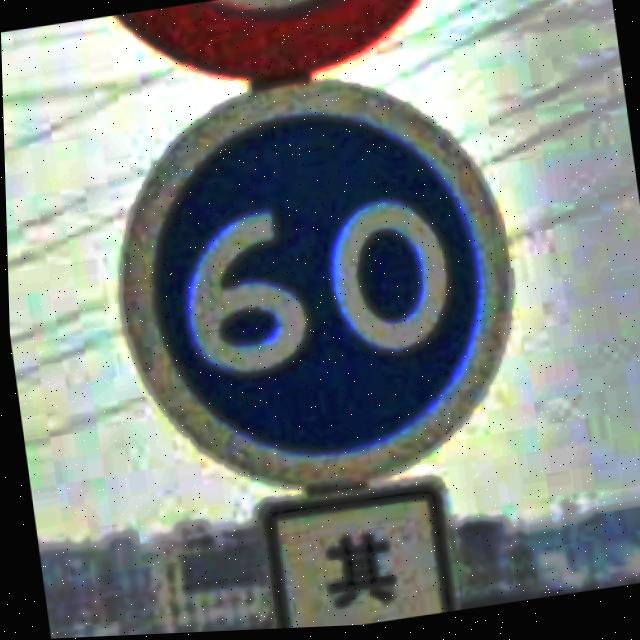min60: (89, 52, 537, 517)
